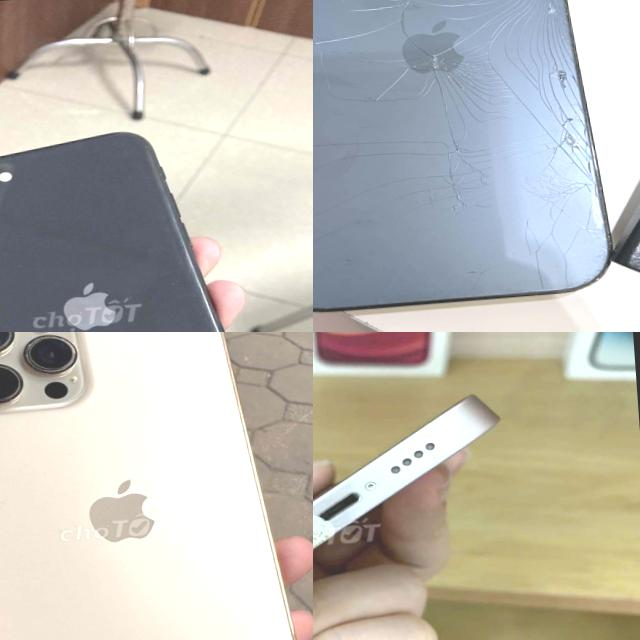gen_11: (0, 117, 283, 332)
gen_12_13: (0, 332, 313, 640), (313, 0, 617, 315), (313, 390, 526, 621)
physical_damage: (313, 10, 481, 93), (492, 124, 598, 254), (382, 121, 496, 221), (491, 0, 564, 132), (322, 81, 483, 126), (313, 138, 365, 244), (313, 0, 435, 17)
